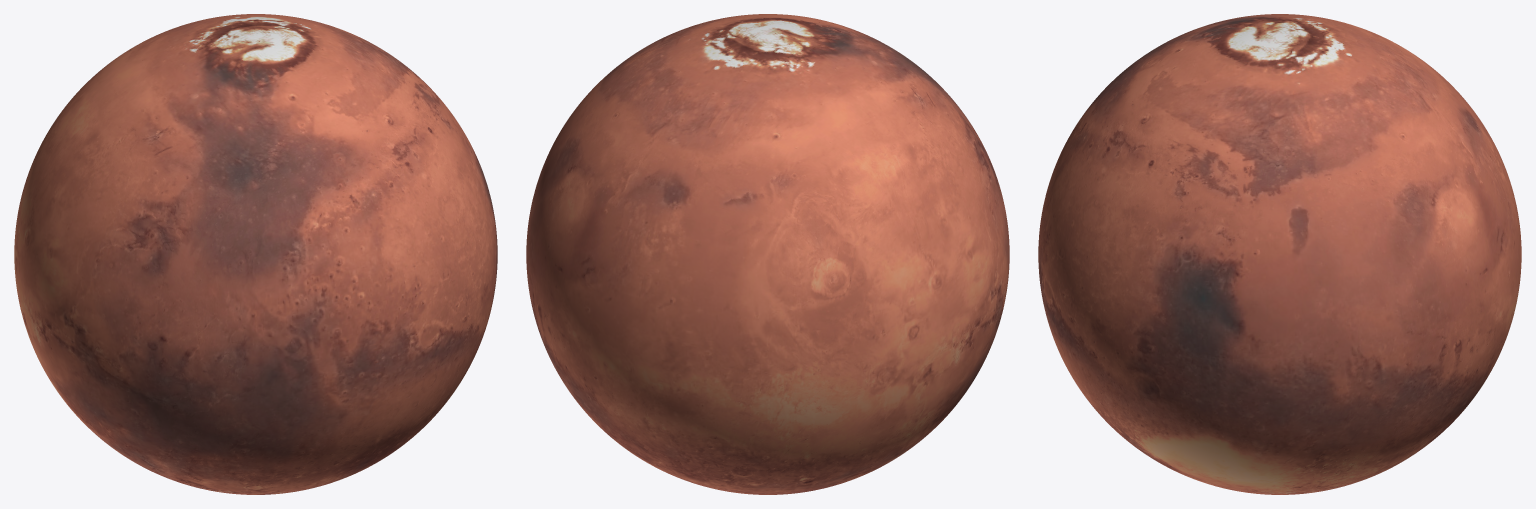
Rendered from mars.glb.
3 renders of one model, left to right at view 1: azimuth 30°, elevation 25°; view 2: azimuth 150°, elevation 25°; view 3: azimuth 270°, elevation 25°, orthographic.
Visible parts, largest first — view 1: mars_globe; view 2: mars_globe; view 3: mars_globe.
Part boxes in pixels (box(x1,y1,x2,y2)): mars_globe: box(14, 14, 497, 494); mars_globe: box(526, 14, 1009, 494); mars_globe: box(1038, 14, 1521, 494).
Bounding box in the file's own units: 2 × 1.99 × 2.
1 material, 1 textured.
